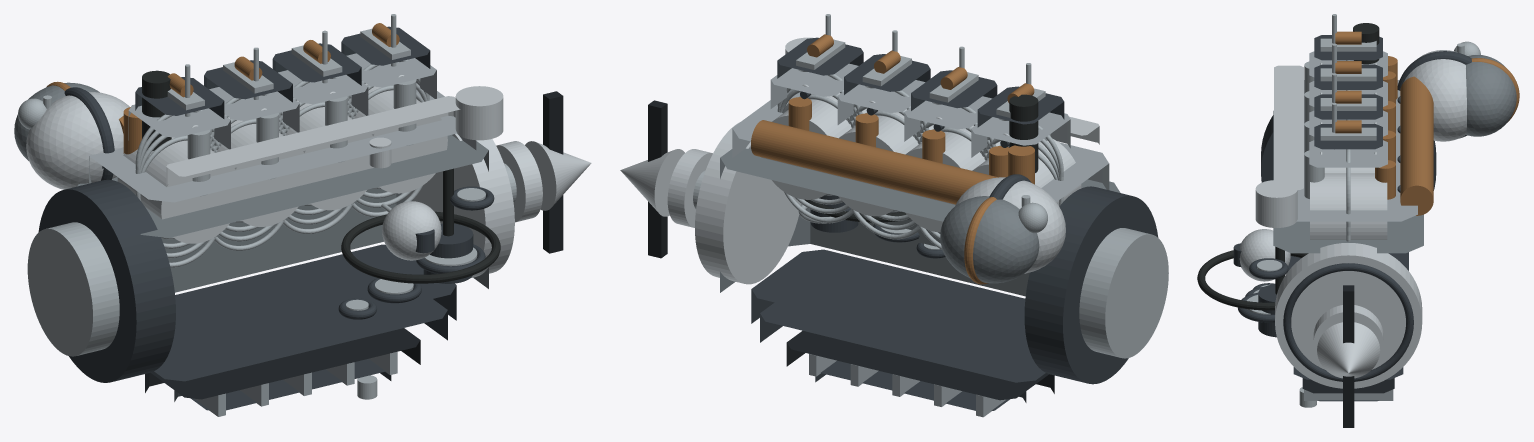
The model's file is VRDE_2.2L_Realistic_Inline4.glb.
3 renders of one model, left to right at view 1: azimuth 30°, elevation 25°; view 2: azimuth 150°, elevation 25°; view 3: azimuth 270°, elevation 25°, orthographic. The views are drawn at different scales.
Parts seen in each view (by area): view 1: Crankcase, Lower_Crankcase, Flywheel_Housing, Flywheel, Oil_Sump, Upper_Crankcase, Turbo_CompressorHousing, Intake_Plenum, Oil_Sump_Lower, Front_Timing_Cover, Cylinder_1, Accessory_Belt (+35 smaller); view 2: Lower_Crankcase, Flywheel_Housing, Front_Timing_Cover, Crankcase, Flywheel, Exhaust_Collector, Oil_Sump, Turbo_TurbineHousing, Oil_Sump_Lower, Upper_Crankcase, Turbo_CompressorHousing, Prop_Hub (+28 smaller); view 3: Front_Timing_Cover, Exhaust_Collector, Cylinder_4, Intake_Plenum, Turbo_TurbineHousing, Turbo_CompressorHousing, Crankcase, TimingCover_Rim, Spinner, Upper_Crankcase, ThrottleBody, C4_Head (+32 smaller).
Boxes of the visible parts, box(x1,y1,x2,y2) form: Crankcase: box(77, 135, 488, 292); Lower_Crankcase: box(167, 244, 456, 359); Flywheel_Housing: box(38, 179, 175, 382); Flywheel: box(27, 222, 119, 356); Oil_Sump: box(154, 299, 447, 381); Upper_Crankcase: box(89, 90, 476, 202); Turbo_CompressorHousing: box(26, 91, 129, 189); Intake_Plenum: box(166, 96, 460, 185); Oil_Sump_Lower: box(145, 328, 420, 399); Front_Timing_Cover: box(405, 133, 514, 277); Cylinder_1: box(117, 135, 241, 243); Accessory_Belt: box(341, 211, 500, 283); Lower_Crankcase: box(751, 249, 1033, 361); Flywheel_Housing: box(1024, 186, 1158, 384); Front_Timing_Cover: box(695, 122, 801, 284); Crankcase: box(720, 147, 1120, 296); Flywheel: box(1079, 228, 1168, 358); Exhaust_Collector: box(751, 120, 998, 204); Oil_Sump: box(760, 302, 1045, 382); Turbo_TurbineHousing: box(940, 196, 1039, 283); Oil_Sump_Lower: box(786, 330, 1054, 400); Upper_Crankcase: box(732, 92, 1109, 201); Turbo_CompressorHousing: box(955, 177, 1065, 273); Prop_Hub: box(667, 149, 712, 227); Front_Timing_Cover: box(1275, 243, 1422, 388); Exhaust_Collector: box(1400, 76, 1433, 215); Cylinder_4: box(1310, 173, 1387, 239); Intake_Plenum: box(1274, 65, 1303, 189); Turbo_TurbineHousing: box(1466, 55, 1516, 136); Turbo_CompressorHousing: box(1403, 50, 1466, 141); Crankcase: box(1273, 110, 1423, 253); TimingCover_Rim: box(1283, 263, 1413, 381); Spinner: box(1317, 322, 1380, 378); Upper_Crankcase: box(1296, 80, 1417, 221); ThrottleBody: box(1255, 180, 1297, 227); C4_Head: box(1309, 140, 1387, 167).
Bounding box in the file's own units: 3.8 × 2.46 × 2.26.
